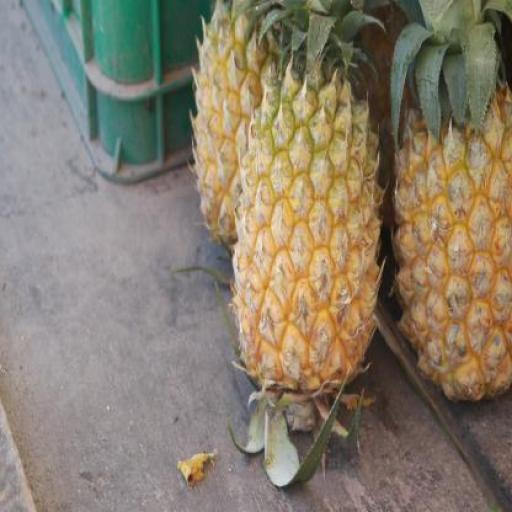Pineapple - v8 v1: (239, 80, 384, 404), (394, 93, 512, 401), (194, 0, 290, 250)
